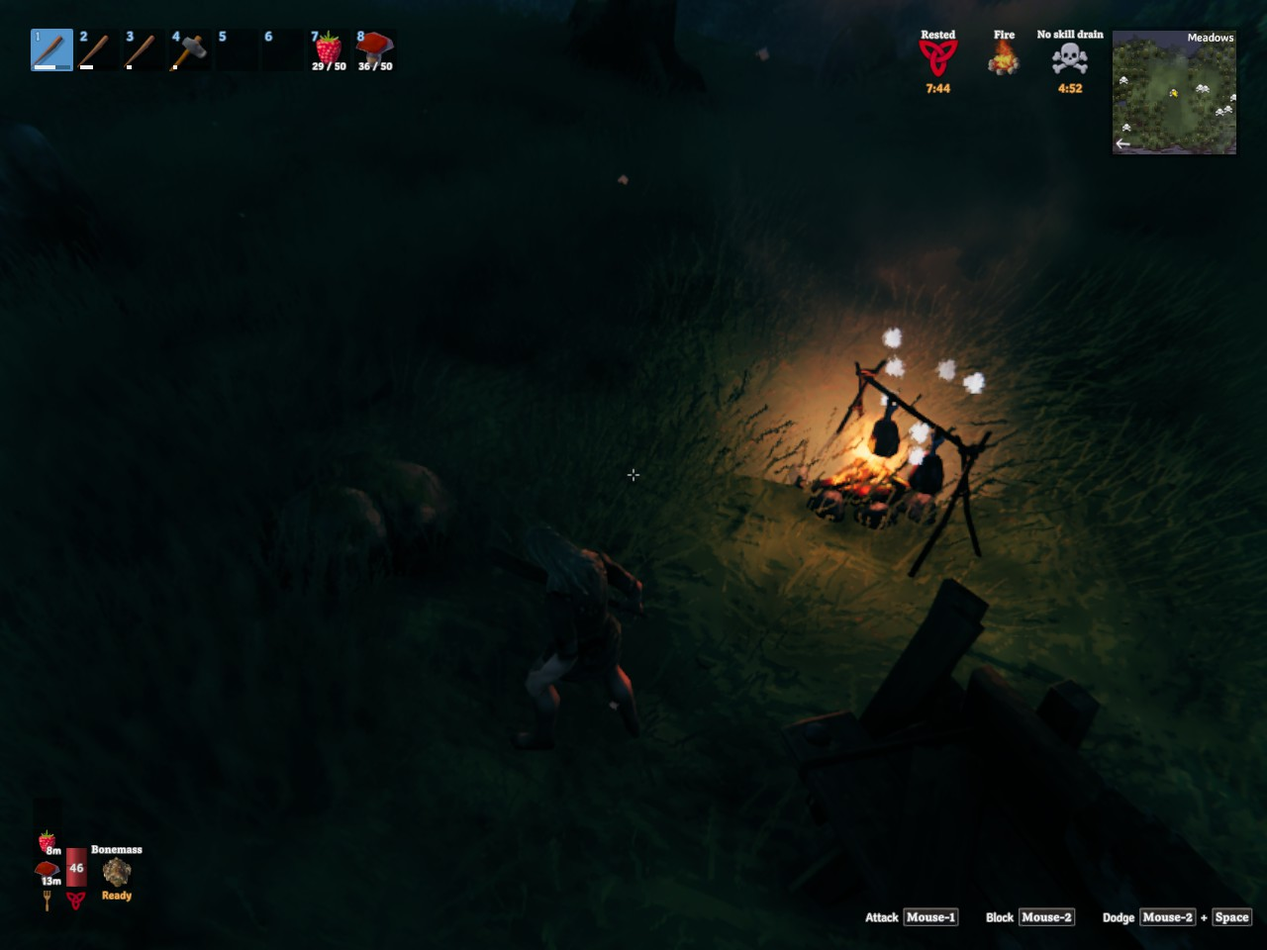Cook Station: (793, 350, 995, 539)
